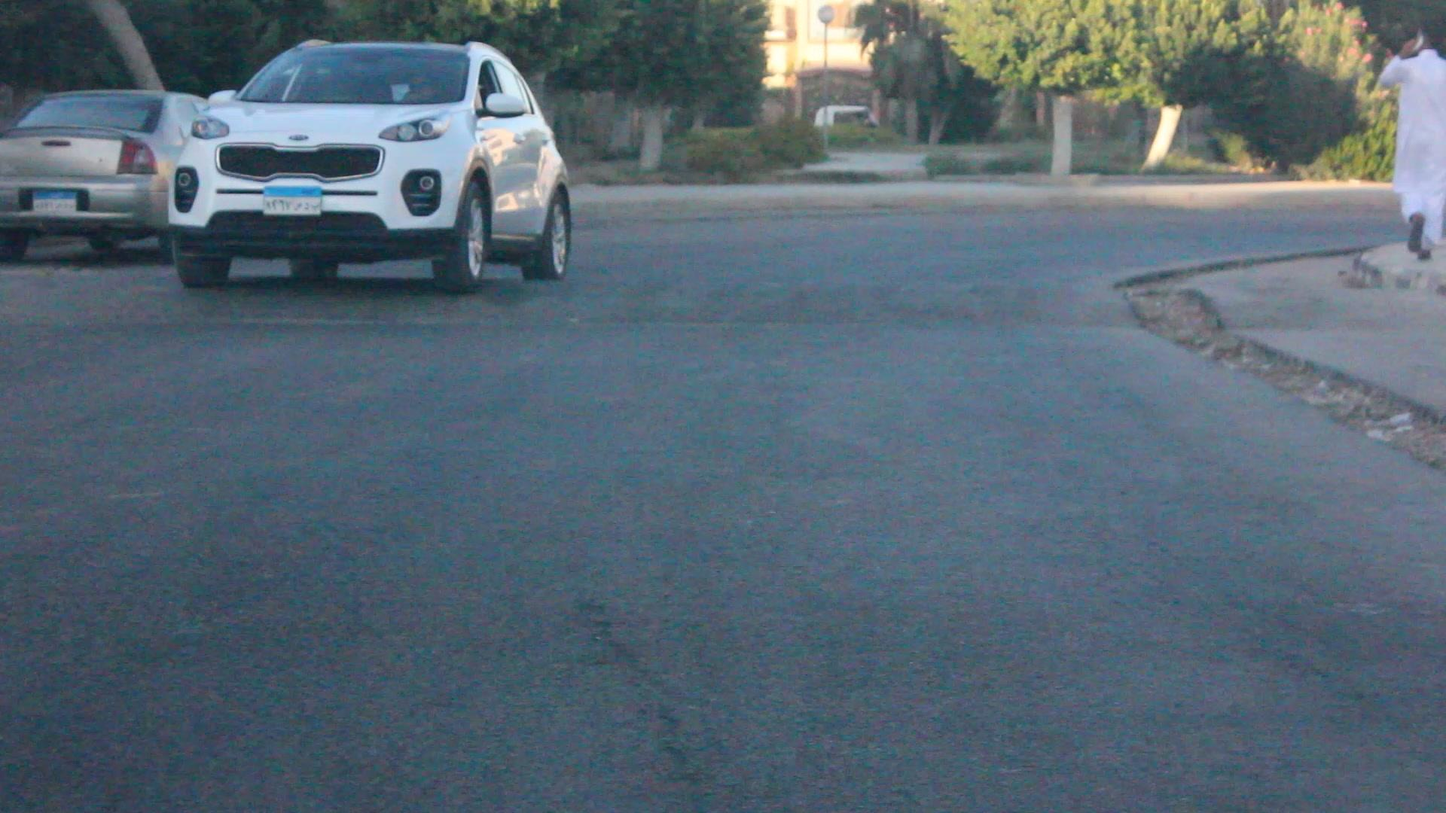Bump: (6, 255, 1138, 353)
